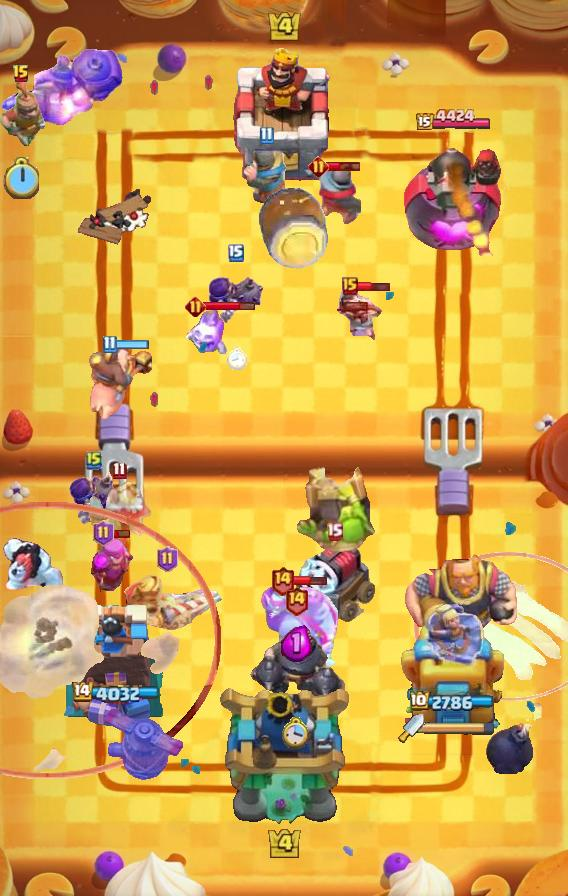baby-dragon: (485, 703, 545, 775)
bar: (398, 595, 508, 731)
dark-prince: (92, 704, 190, 786)
dirt: (257, 186, 333, 270)
earthquake: (0, 78, 50, 150)
electro-spirit: (281, 625, 312, 663)
elixir: (3, 157, 39, 199), (282, 715, 311, 749), (225, 346, 247, 370)
emote: (204, 301, 257, 312), (357, 279, 392, 292), (326, 160, 362, 172), (292, 574, 328, 585), (114, 339, 149, 350), (111, 528, 131, 539)
firecracker: (305, 163, 361, 227), (244, 149, 288, 204)
freeze: (84, 343, 152, 423)
giant-skeleton: (403, 549, 519, 649)
goblin-ball: (206, 267, 266, 325), (68, 471, 120, 527)
golem: (291, 534, 377, 624)
ice-wizard: (414, 552, 568, 701)
king-tower: (216, 684, 352, 826), (229, 43, 339, 181)
king-tower-bar: (424, 721, 496, 735)
lava-hound: (259, 584, 341, 680)
mirror: (186, 307, 228, 357)
mortar-evolution: (85, 480, 153, 554)
queen-tower: (61, 599, 166, 731)
rage: (0, 537, 66, 601)
ram-rider: (112, 573, 222, 649)
rascal-girl: (90, 534, 138, 602)
royal-ghost: (0, 502, 220, 779)
royal-guardian: (247, 616, 345, 700)
selected: (69, 683, 158, 706), (416, 108, 493, 133), (410, 691, 496, 713)
skeleton-dragon: (336, 283, 384, 341)
text: (270, 564, 295, 595), (284, 585, 309, 616), (94, 520, 115, 546), (158, 546, 179, 572), (307, 155, 328, 177), (185, 295, 206, 317), (12, 64, 30, 84), (325, 523, 343, 541), (86, 450, 102, 470), (228, 244, 244, 262), (342, 277, 358, 295), (113, 461, 128, 480), (259, 127, 273, 146), (103, 335, 117, 354)
tower-bar: (404, 138, 505, 256)
wizard: (0, 48, 124, 126)
x-bow: (294, 460, 380, 556)
